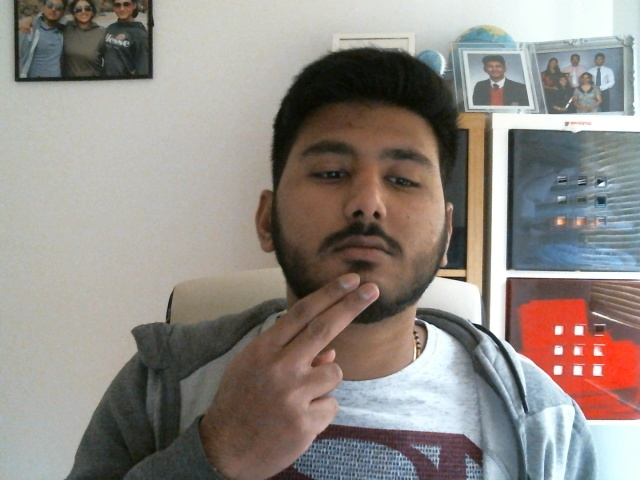afternoon: (224, 273, 379, 428)
